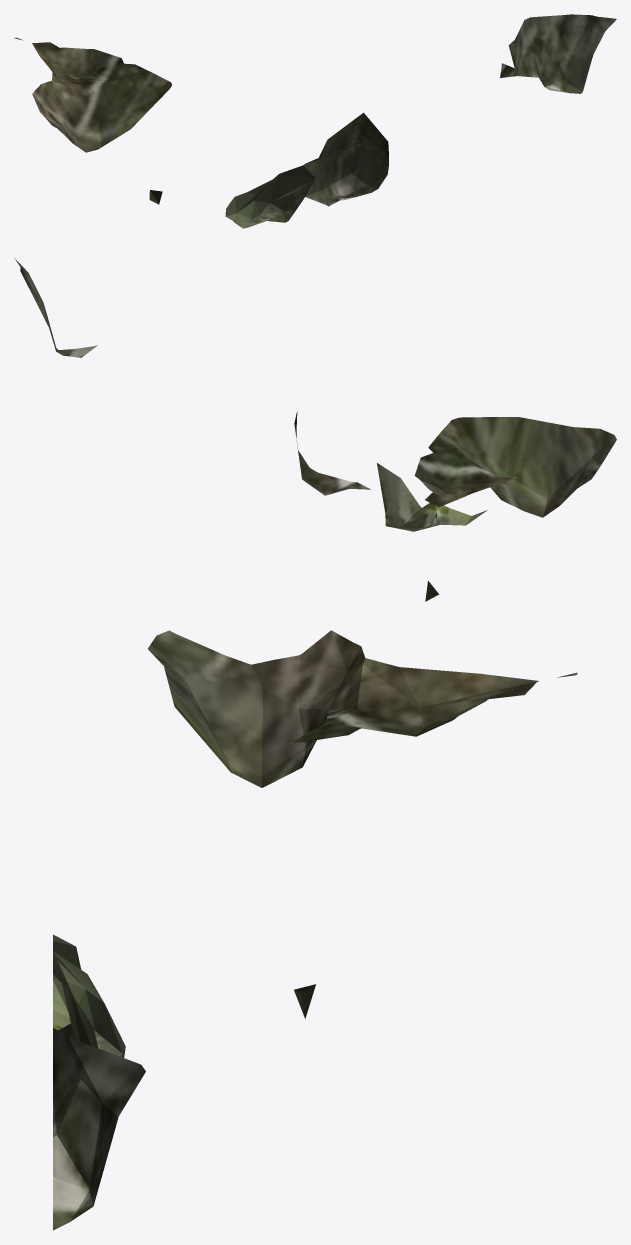
3 views of the same model, one above another, from view 1: azimuth 30°, elevation 25°; view 2: azimuth 150°, elevation 25°; view 3: azimuth 270°, elevation 25° (orthographic). The views are drawn at different scales.
Size of the model in its own units: 2.63 by 0.6622 by 1.16.
Materials: 1 (1 with a texture image).
